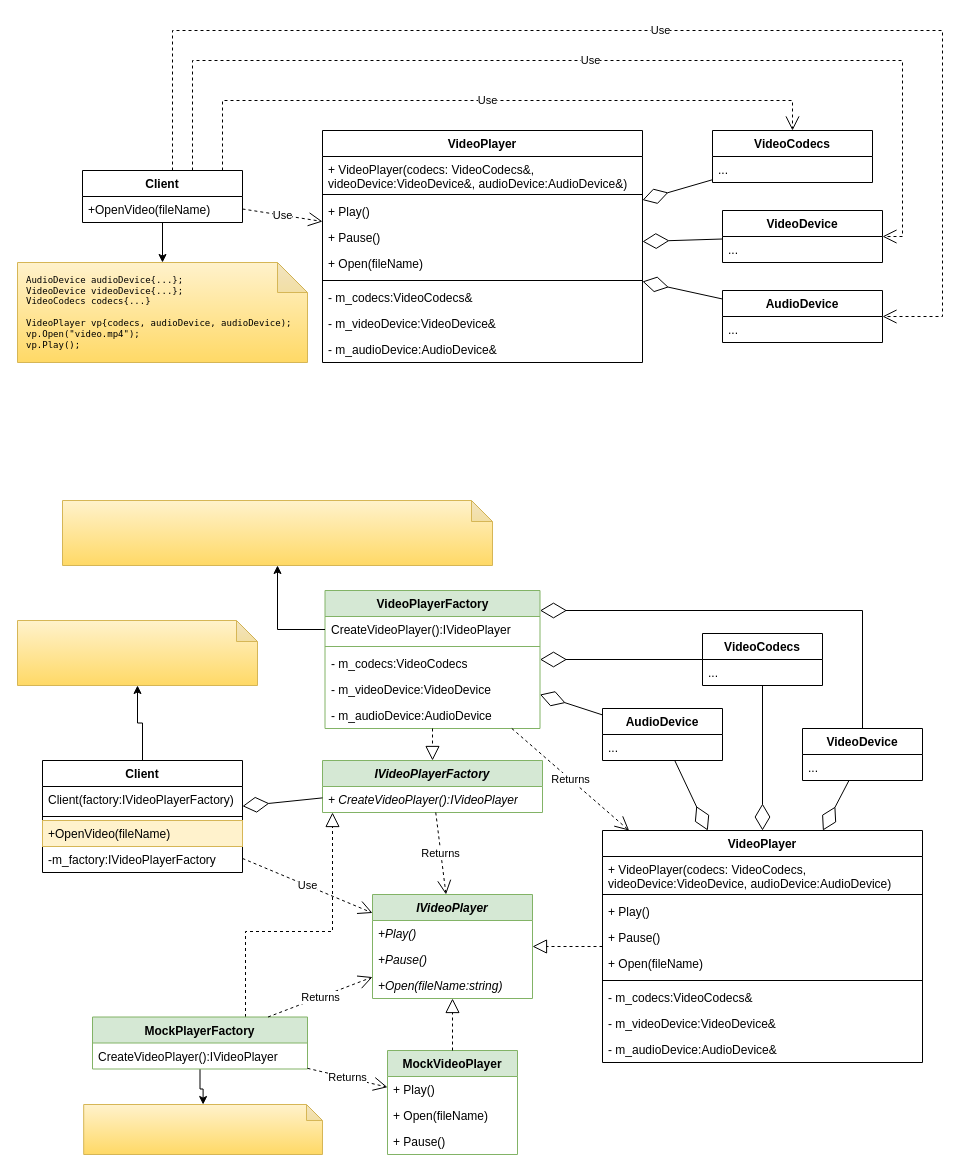
Image size: 974x1175. Some labels were removed from this diagram. Each missing label, with the centre of its shape:
auto vp = m_factory.CreateVideoPlayer(); vp->Open("video.mp4"); vp->Play();: [137,653]
return make_unique<MockVideoPlayer>();: [202,1129]
return make_unique<VideoPlayer>(m_codecs, m_videoDevice, m_audioDevice);: [277,533]
